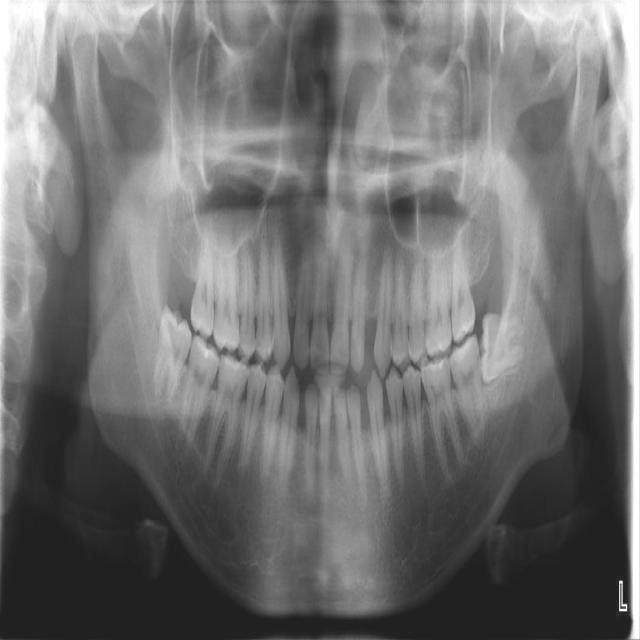impacted tooth: (154, 309, 190, 404), (480, 312, 526, 381)
